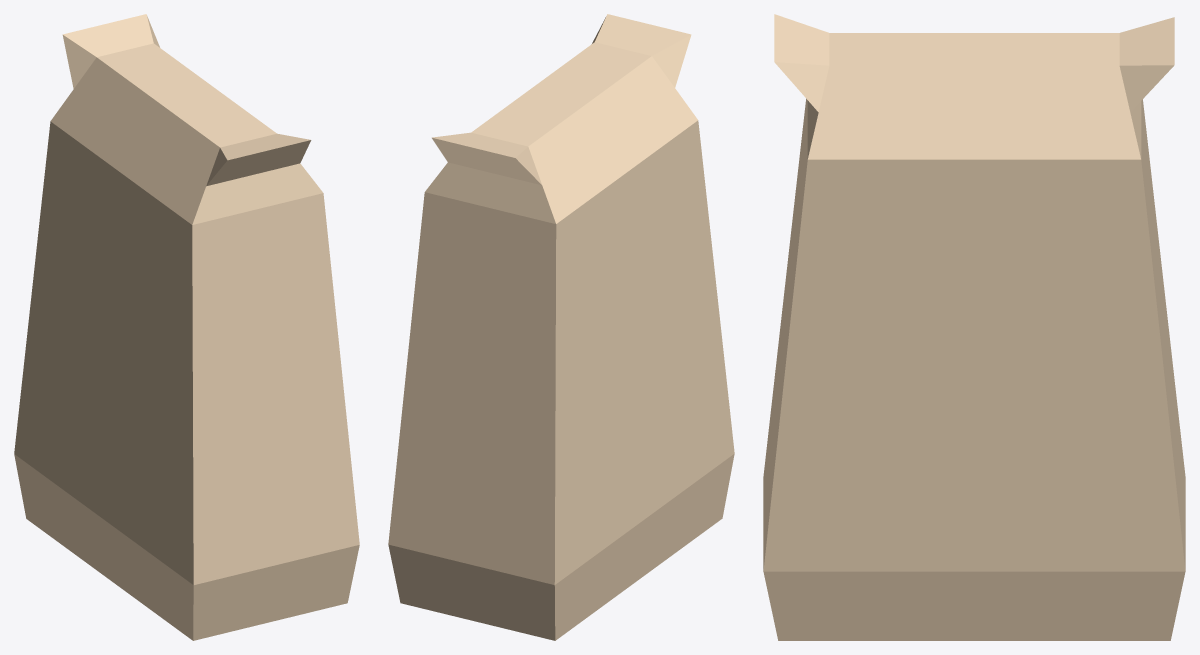
The model's file is bag.fbx.
3 renders of one model, left to right at view 1: azimuth 30°, elevation 25°; view 2: azimuth 150°, elevation 25°; view 3: azimuth 270°, elevation 25°, orthographic. The views are drawn at different scales.
Parts seen in each view (by area): view 1: bag; view 2: bag; view 3: bag.
Boxes of the visible parts, bbox=[...] form: bag: bbox=[14, 14, 359, 640]; bag: bbox=[388, 14, 734, 640]; bag: bbox=[763, 14, 1185, 640].
Bounding box in the file's own units: 22.01 × 59.98 × 41.18.
